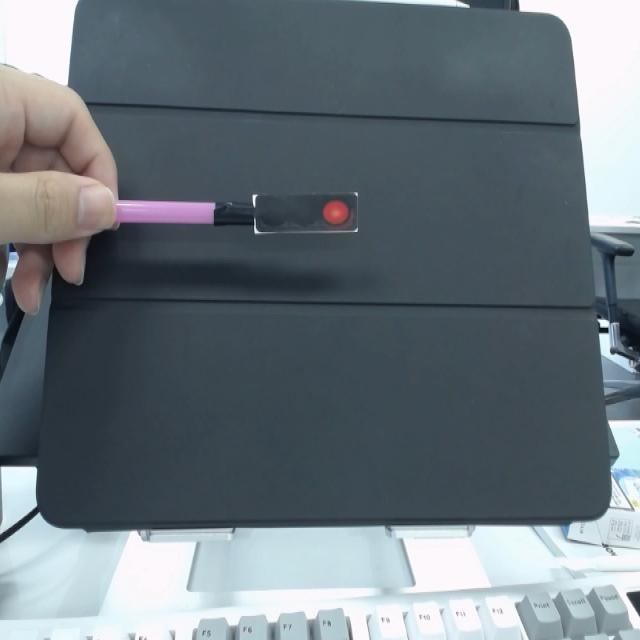traffic light: (251, 191, 360, 239)
